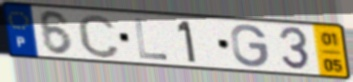1: (175, 20, 199, 65)
3: (276, 25, 313, 74)
6: (39, 9, 74, 57)
C: (75, 12, 122, 60)
G: (229, 23, 271, 69)
L: (132, 17, 171, 62)
